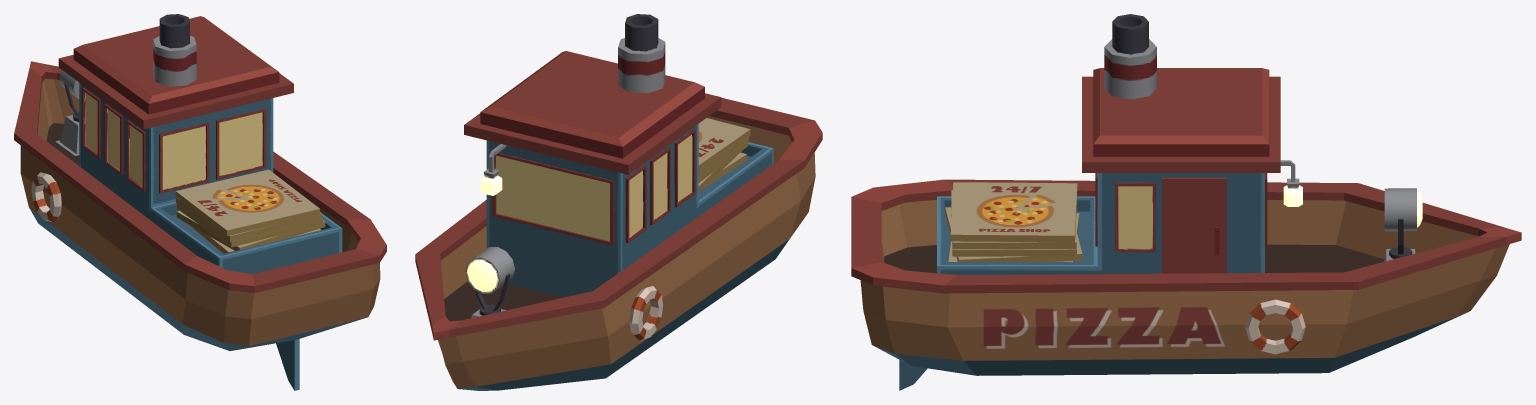
Rendered from boat.fbx.
3 renders of one model, left to right at view 1: azimuth 30°, elevation 25°; view 2: azimuth 150°, elevation 25°; view 3: azimuth 270°, elevation 25°, orthographic. The views are drawn at different scales.
Visible parts, largest first — view 1: boat, pizza, fin; view 2: boat, pizza; view 3: boat, pizza.
Part boxes in pixels (x1,y1,x2,y2): boat: [14, 14, 386, 350]; pizza: [175, 169, 325, 253]; fin: [276, 339, 299, 390]; boat: [415, 14, 822, 390]; pizza: [698, 118, 750, 192]; boat: [851, 14, 1521, 375]; pizza: [945, 182, 1082, 261].
Bounding box in the file's own units: 124 × 192 × 329.
Materials: 2 (2 with a texture image).
